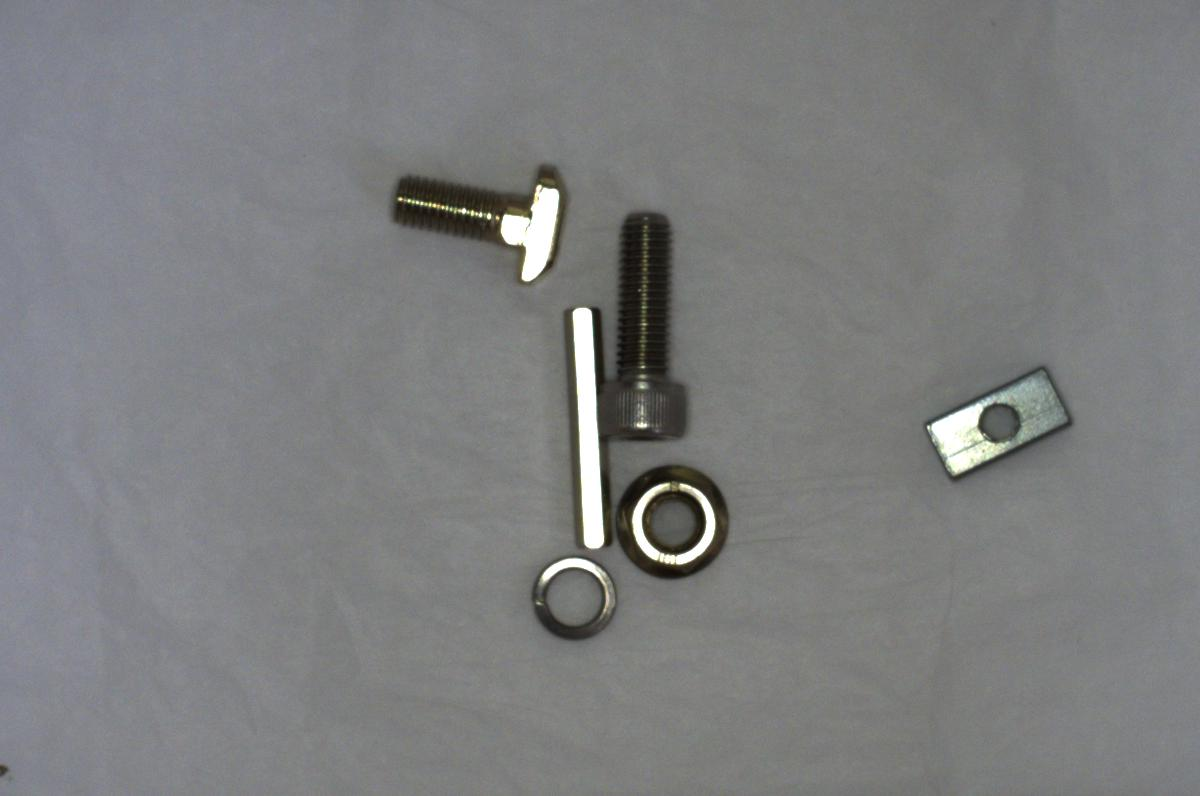Double hexagonal column: (555, 299, 612, 546)
Flange nut: (612, 450, 746, 589)
Hexagon screw: (584, 201, 693, 444)
Rectangular nut: (924, 362, 1076, 483)
Spring washer: (523, 546, 628, 649)
T-shaped screw: (376, 153, 567, 286)
